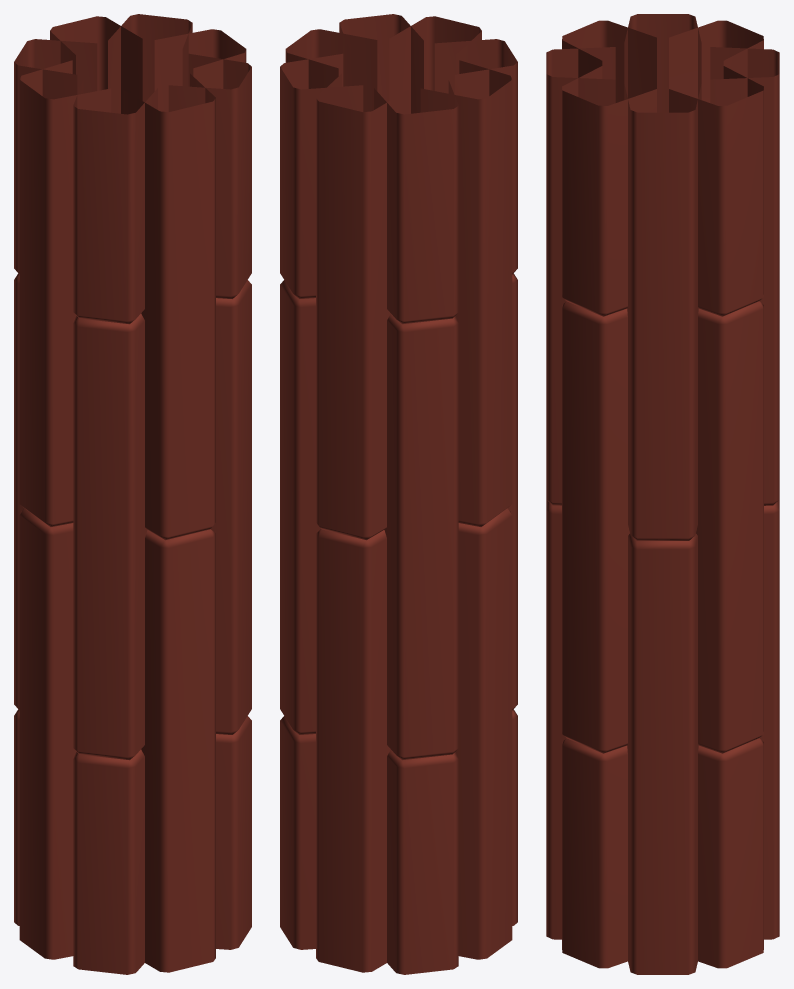
The model's file is pillar_008.fbx.
3 renders of one model, left to right at view 1: azimuth 30°, elevation 25°; view 2: azimuth 150°, elevation 25°; view 3: azimuth 270°, elevation 25°, orthographic.
Parts seen in each view (by area): view 1: pillar_008; view 2: pillar_008; view 3: pillar_008.
Boxes of the visible parts, box(x1,y1,x2,y2) form: pillar_008: box(14, 14, 251, 974); pillar_008: box(280, 14, 517, 974); pillar_008: box(546, 14, 779, 974).
Size of the model in its own units: 599 by 599 by 2443.
